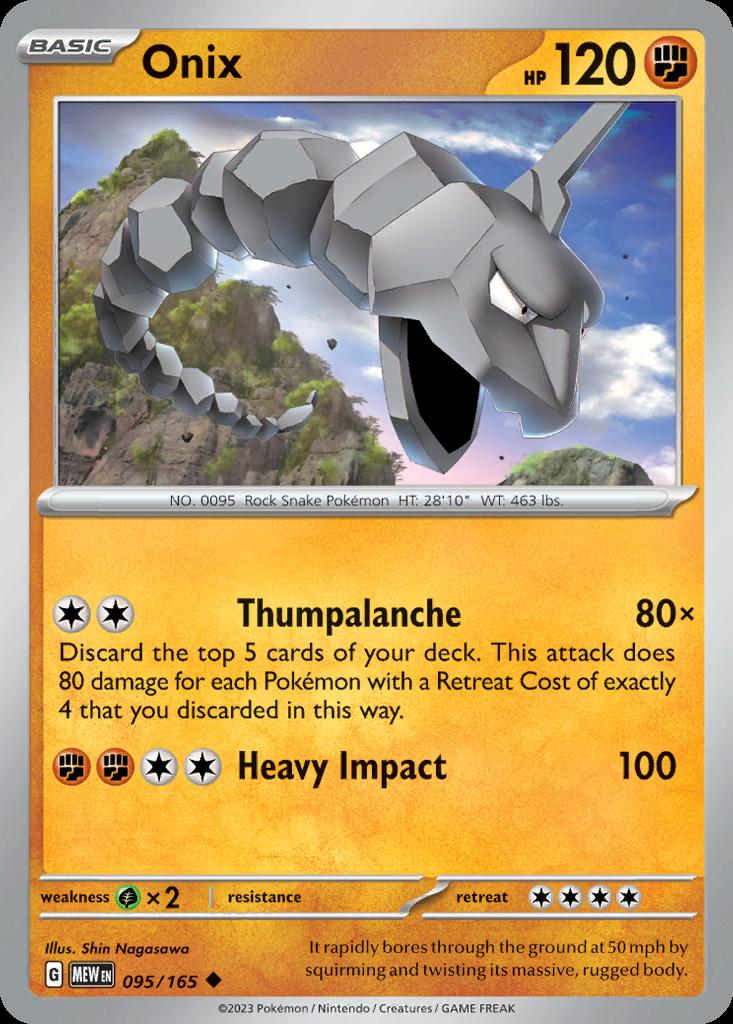card: (3, 0, 733, 1024)
hp: (501, 26, 704, 101)
name: (136, 24, 264, 96)
set num: (124, 966, 207, 999)
set symbol: (66, 956, 124, 996)
